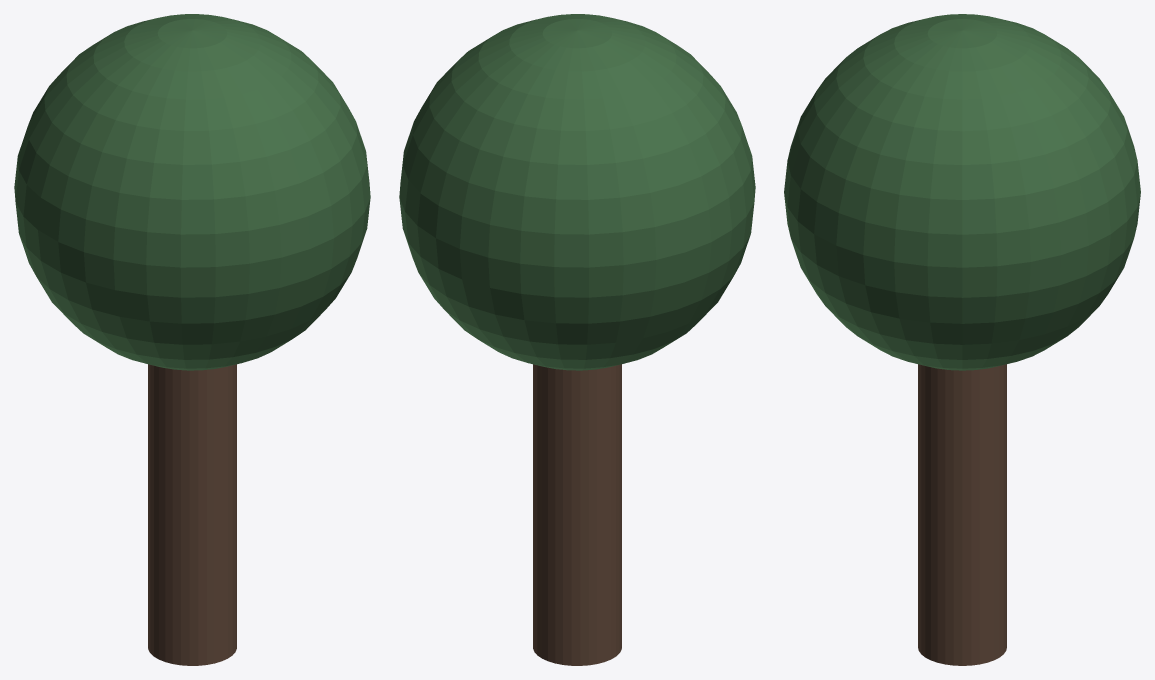
The model's file is tree.glb.
The picture shows the model from 3 angles, left to right: view 1: azimuth 30°, elevation 25°; view 2: azimuth 150°, elevation 25°; view 3: azimuth 270°, elevation 25°; orthographic projection.
Parts seen in each view (by area): view 1: Cylinder; view 2: Cylinder; view 3: Cylinder.
Boxes of the visible parts, left/top/right/bottom form: Cylinder: left=14, top=14, right=370, bottom=665; Cylinder: left=399, top=14, right=755, bottom=665; Cylinder: left=784, top=14, right=1140, bottom=665.
Size of the model in its own units: 8 by 15.25 by 8.
